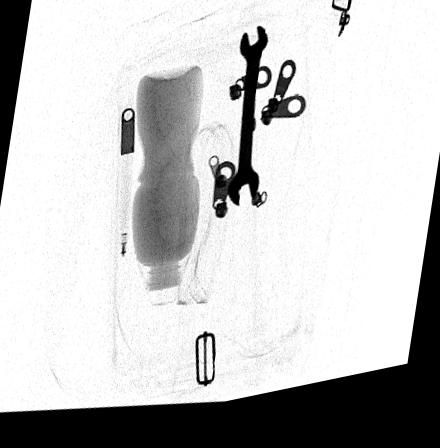Wrench: (228, 33, 269, 216)
